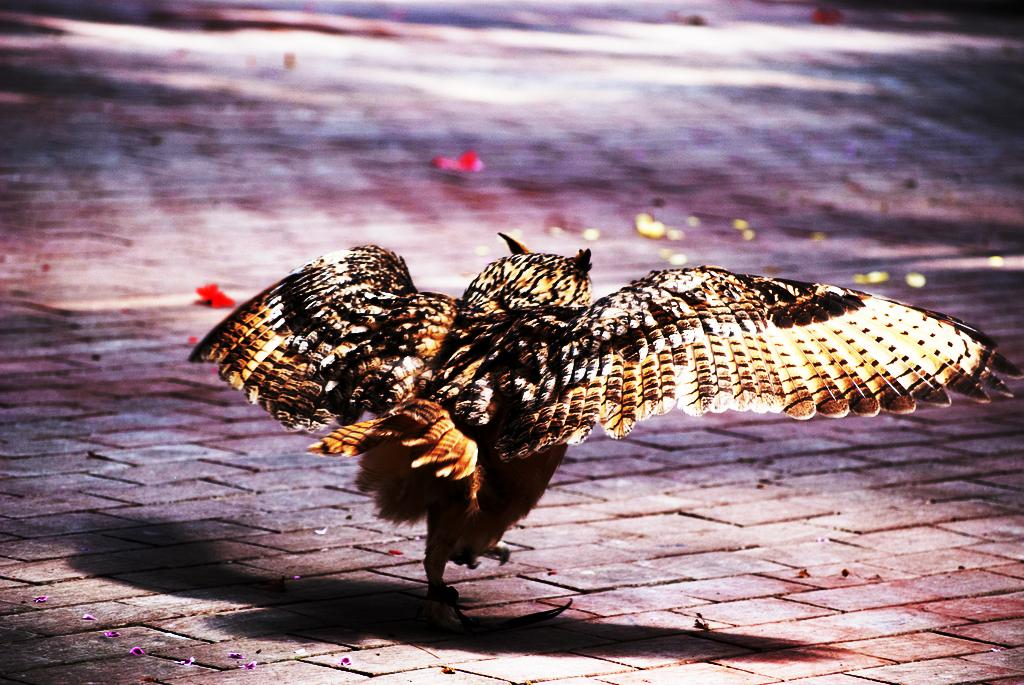Owl: (190, 234, 1018, 606)
